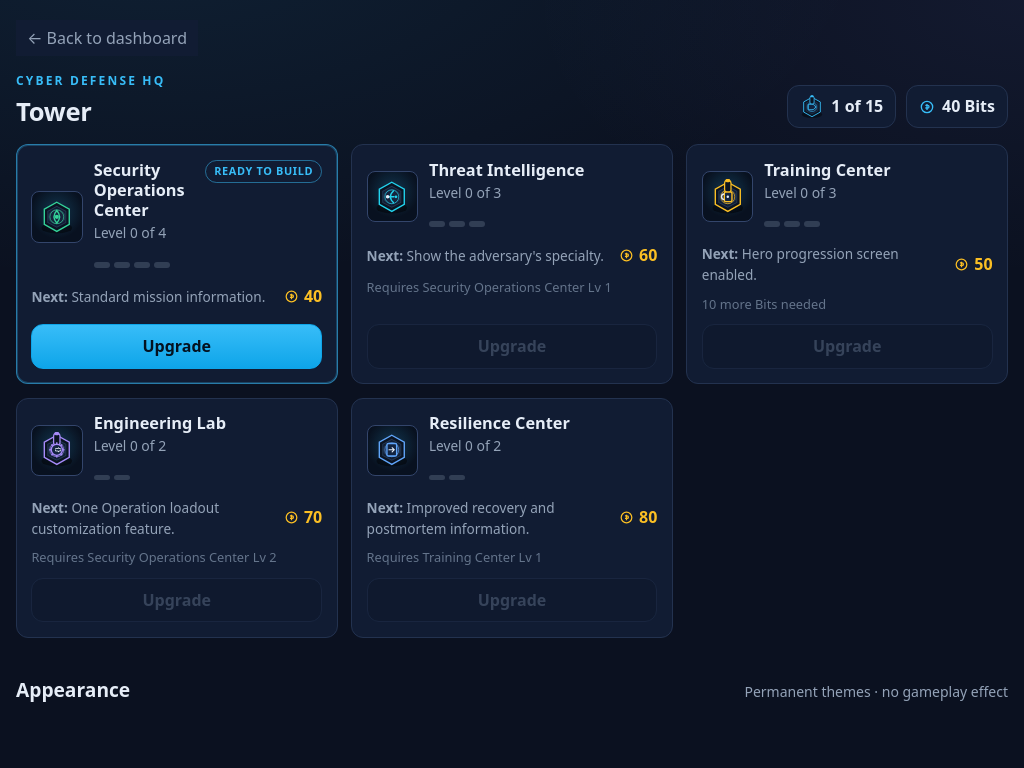
CyberDefenseTowerPage › shows the server message when a purchase fails
What coordinates should you click on to do the following:
click the button with aria-label "Upgrade Security Operations Center"
I would click on:
 (177, 346)
Its box is [31,324,322,369].
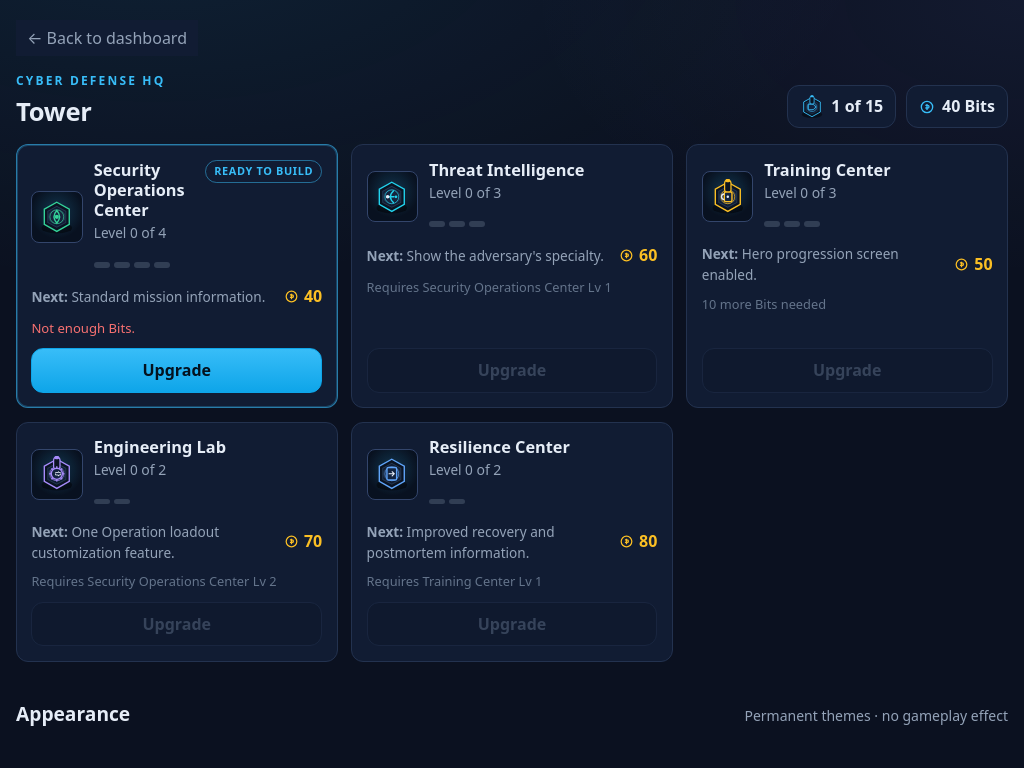
Now the message reads "Not enough Bits.", box [31,319,135,337]
